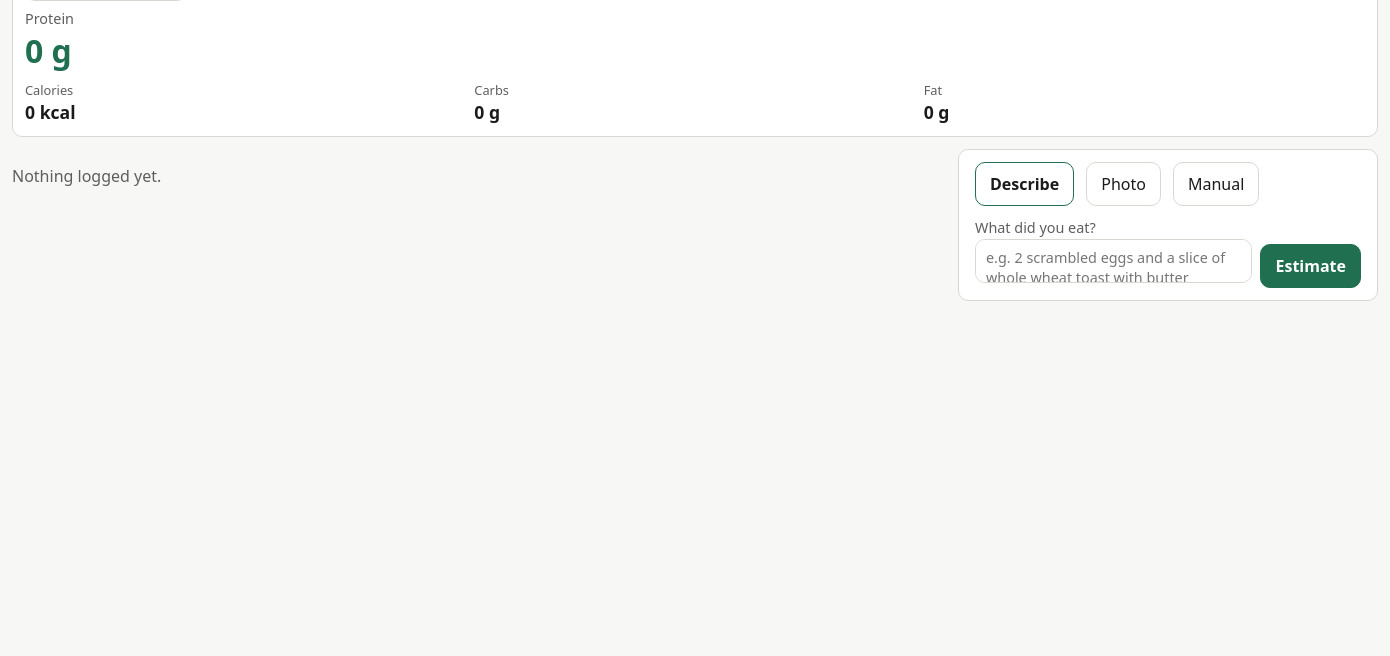
Test: Composer: describe on Today › (g) while the card is open, Estimate and the description are disabled
In the text box labelled "What did you eat?": (1114, 261) left=975, top=239, right=1252, bottom=283, type "1 medium banana"
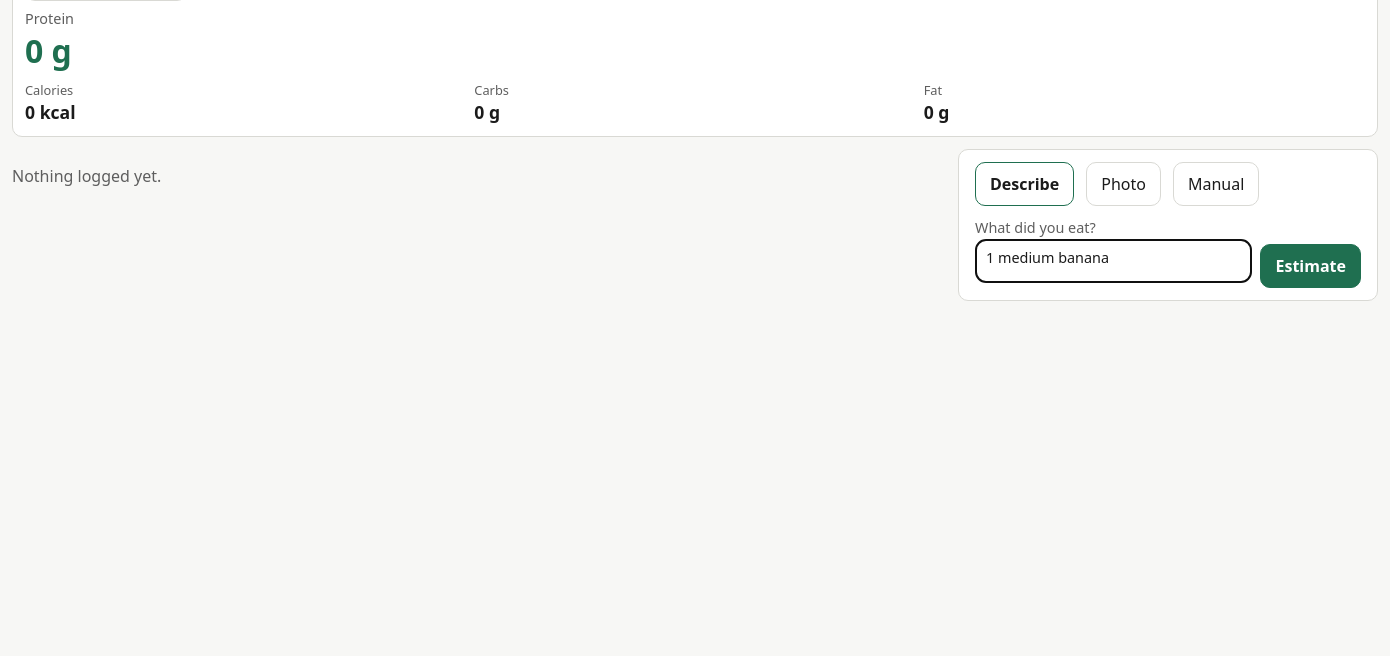
Click the button "Estimate": (1311, 266) left=1260, top=244, right=1361, bottom=288
(page scrolled)
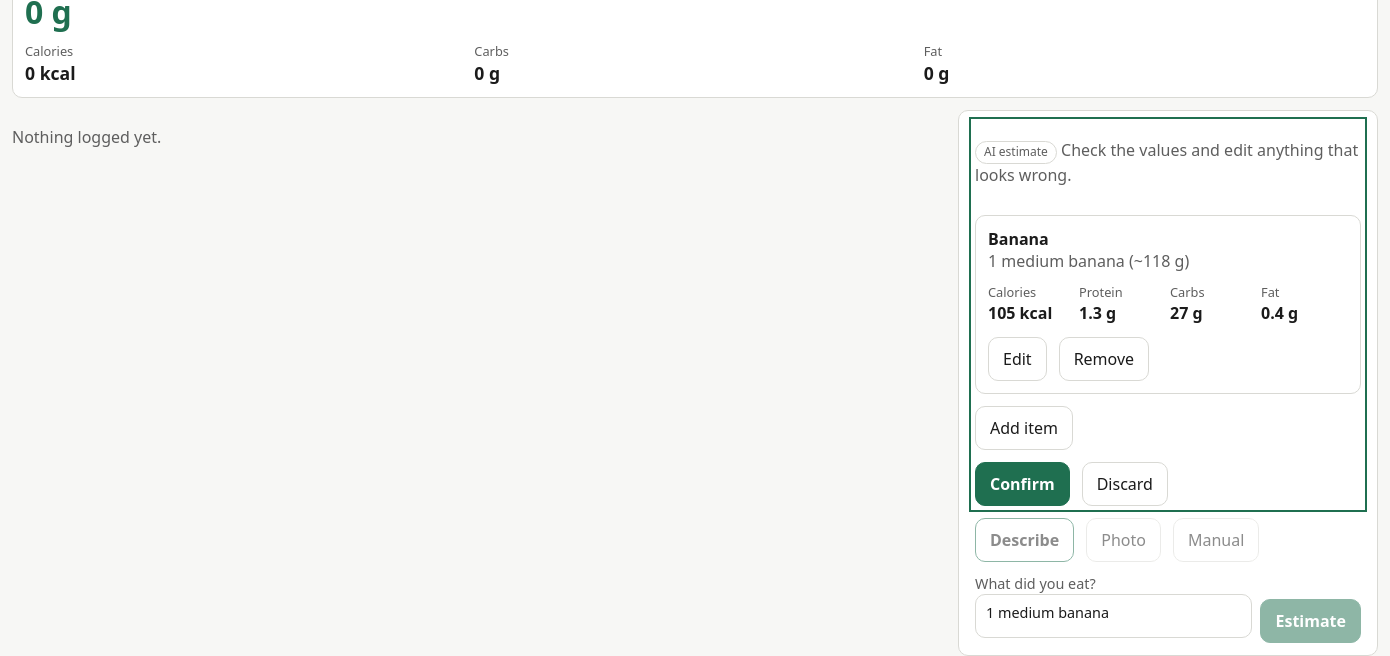
Result: the element named "Review estimate" is shown at left=975, top=124, right=1361, bottom=506
Result: the text box labelled "What did you eat?" is disabled at left=975, top=594, right=1252, bottom=638
Result: the button "Estimate" is disabled at left=1260, top=599, right=1361, bottom=643
